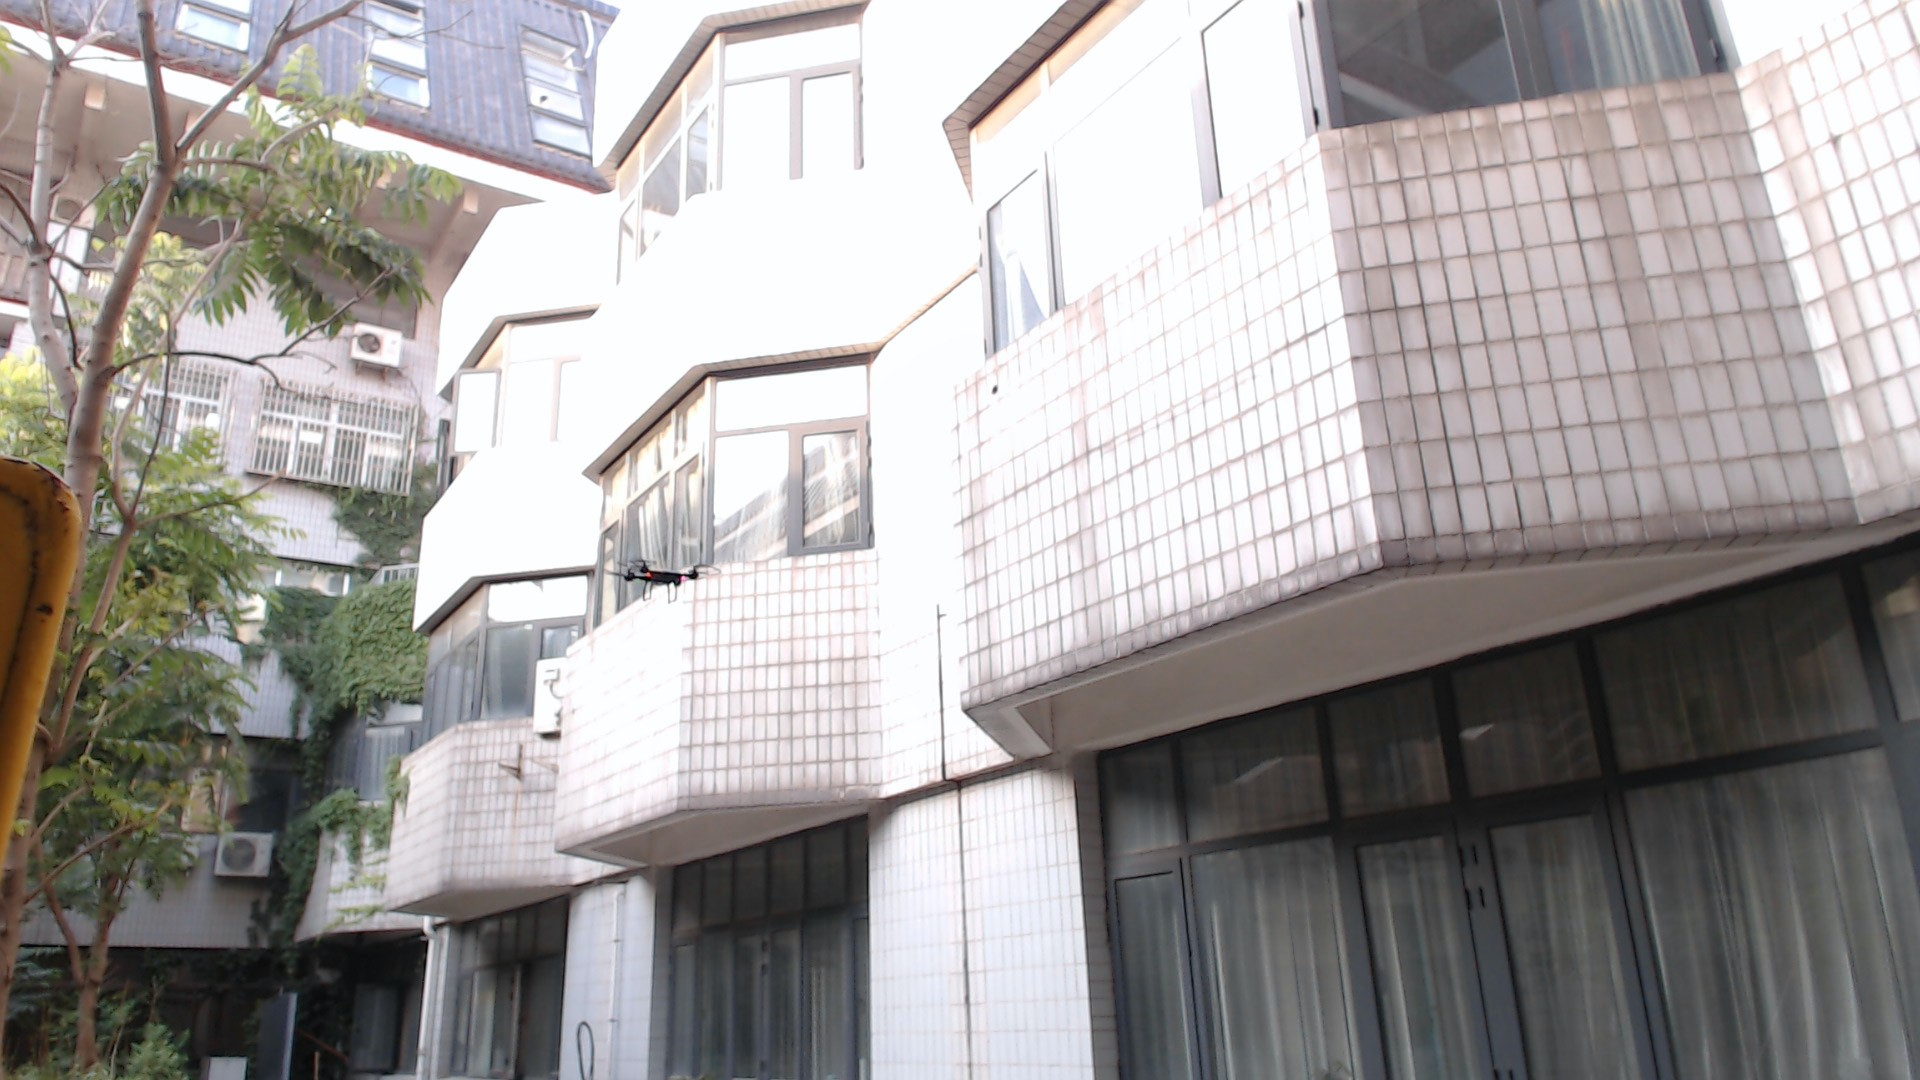drone: (576, 531, 756, 621)
